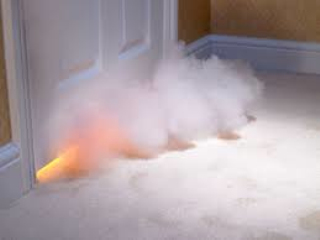fire: (32, 149, 76, 180)
smoke: (73, 68, 267, 156)
